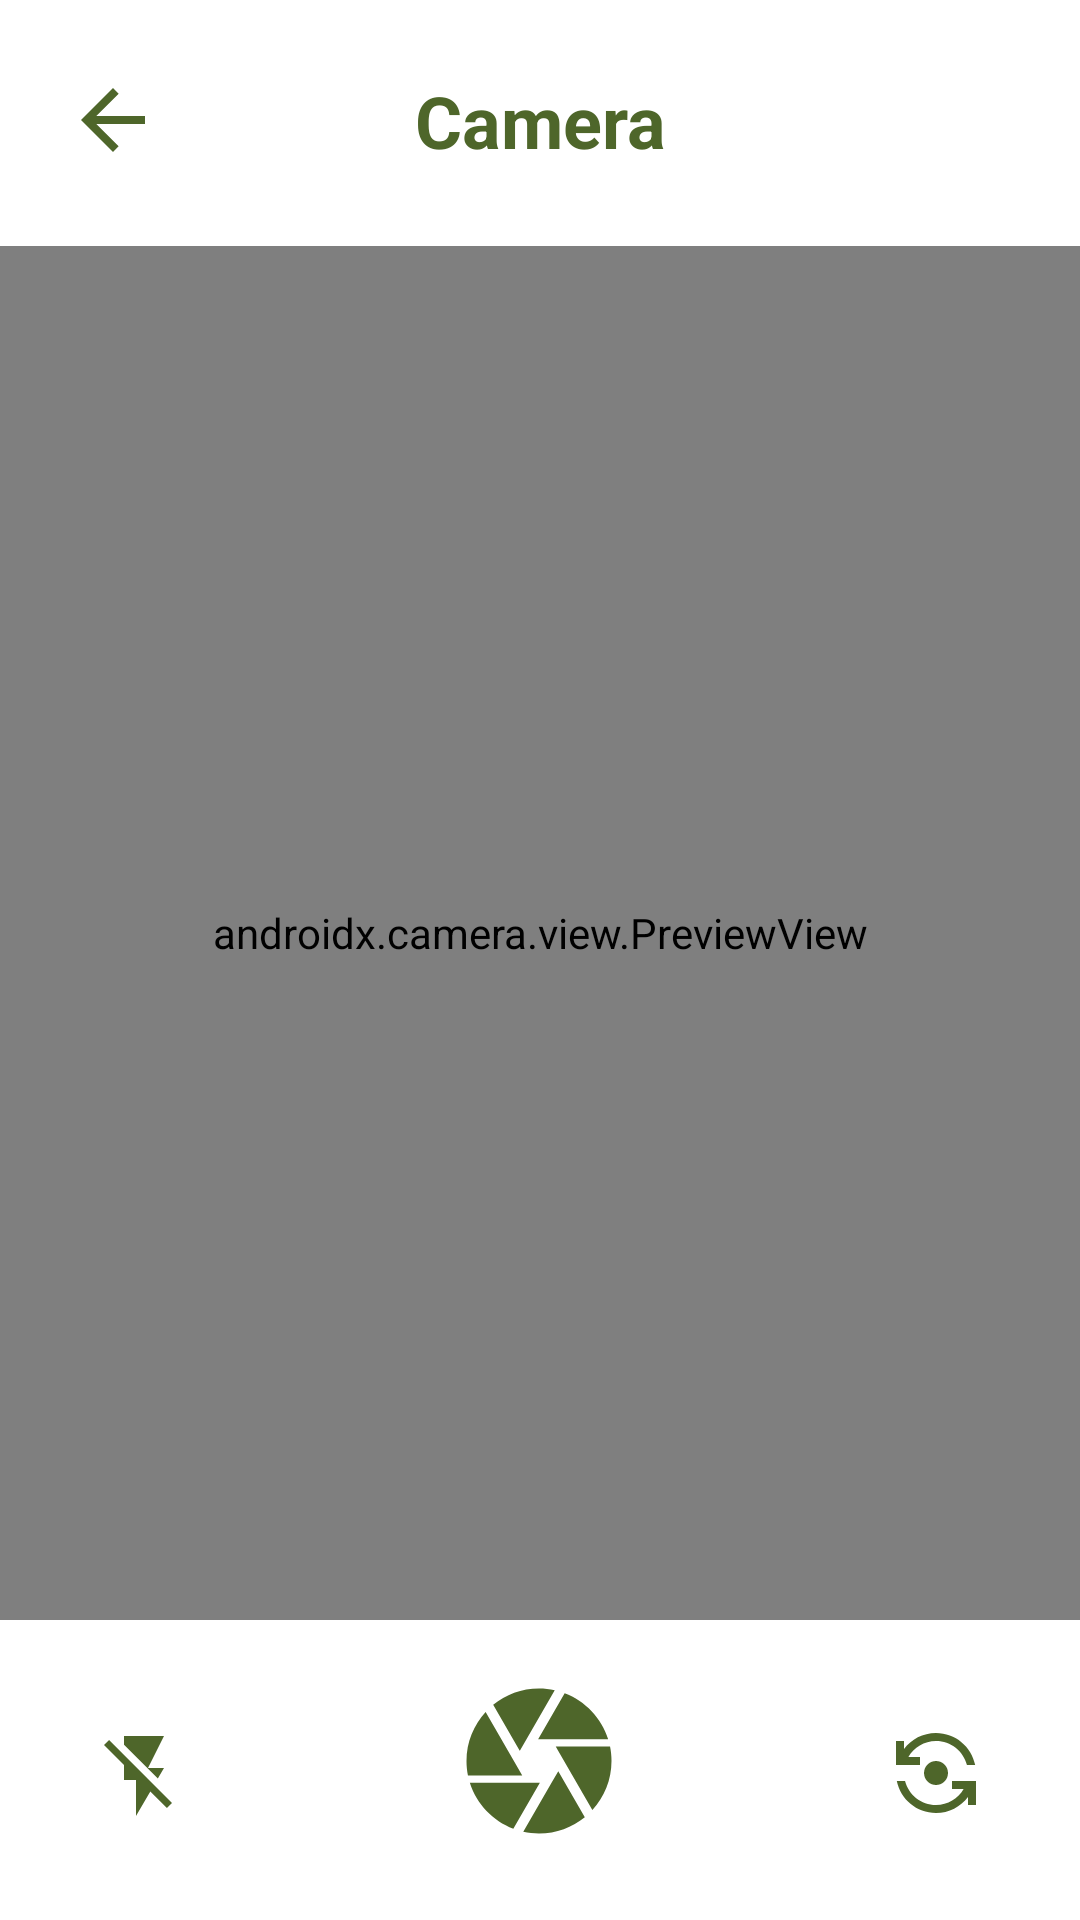

Named icons in this screenshot (1080px x 1920px) and their bounding boxes, {"x1": x1, "y1": y1, "x2": x2, "y2": y2}:
arrow back: {"x1": 81, "y1": 88, "x2": 145, "y2": 152}
camera capture: {"x1": 466, "y1": 1688, "x2": 612, "y2": 1834}
flash off: {"x1": 104, "y1": 1736, "x2": 172, "y2": 1816}
flip camera: {"x1": 896, "y1": 1733, "x2": 976, "y2": 1813}
